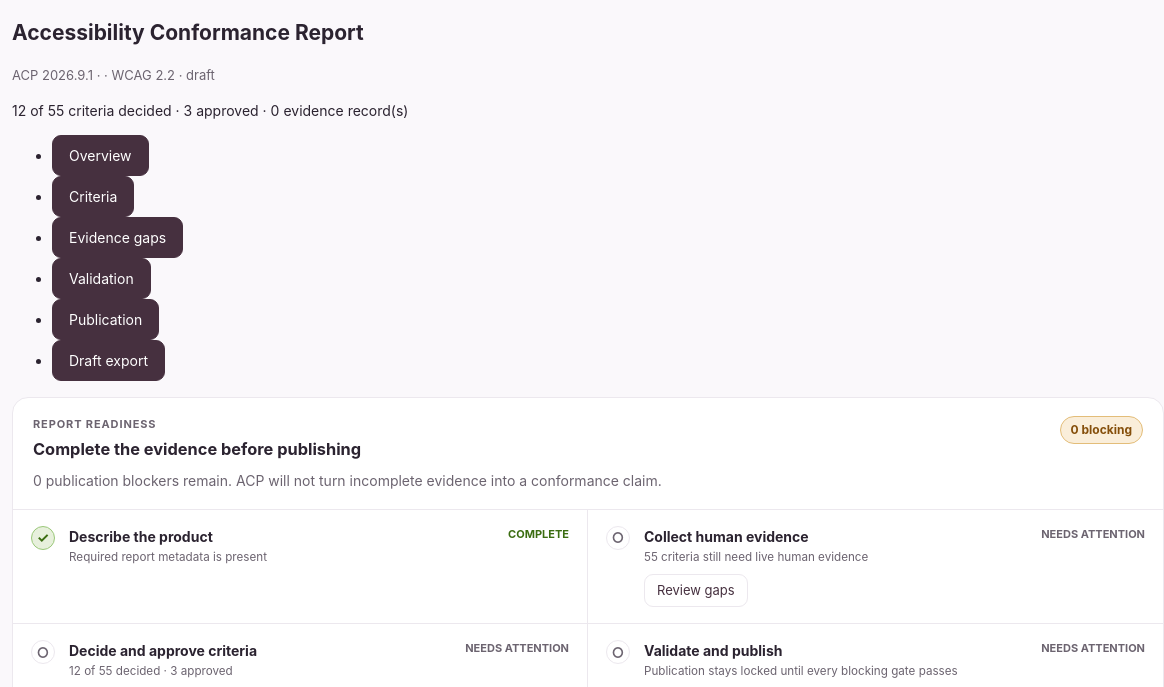
Scenario: the accessible PDF download › offers the download on the export tab, and says what it produces
Click the button "Draft export": (108, 360) 52,340 -> 165,381
(page scrolled)
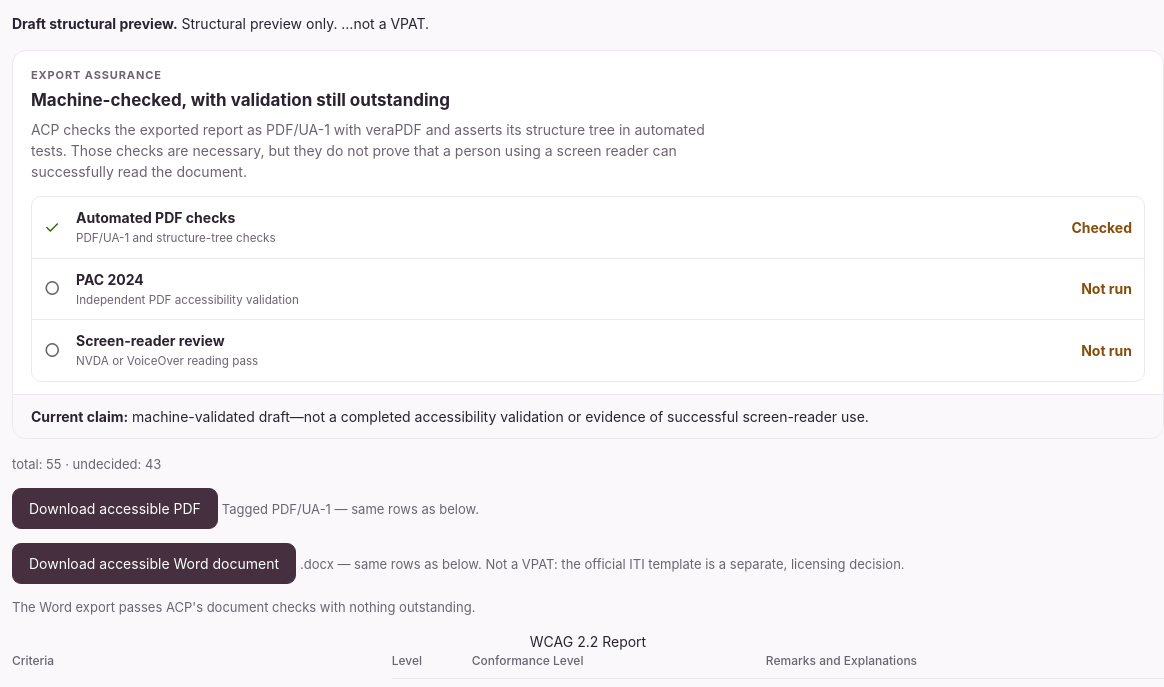
Expected: the text "PDF/UA-1" is shown, 31,121 -> 705,180
Expected: the button "Download accessible PDF" is shown, 12,488 -> 218,529
